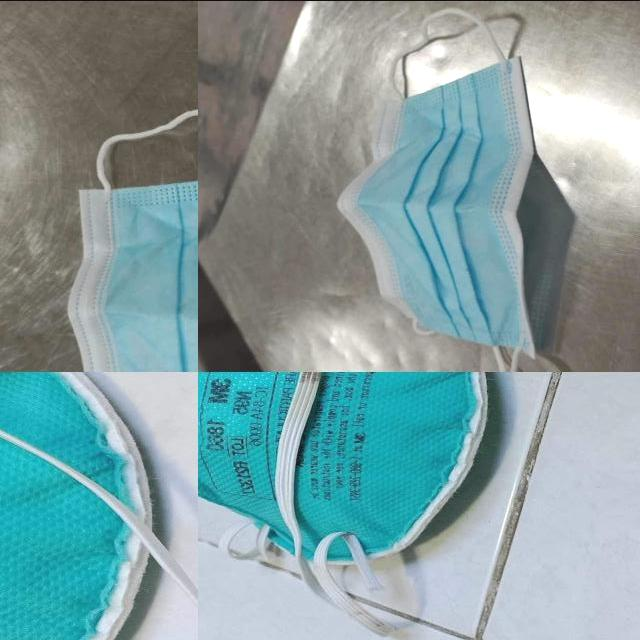General: (334, 52, 573, 358)
Sharps: (0, 424, 199, 604)
